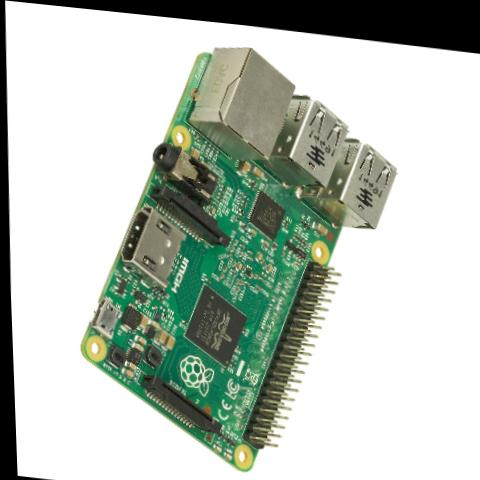Raspberry-Pi-2-Model-B: (54, 13, 418, 480)
